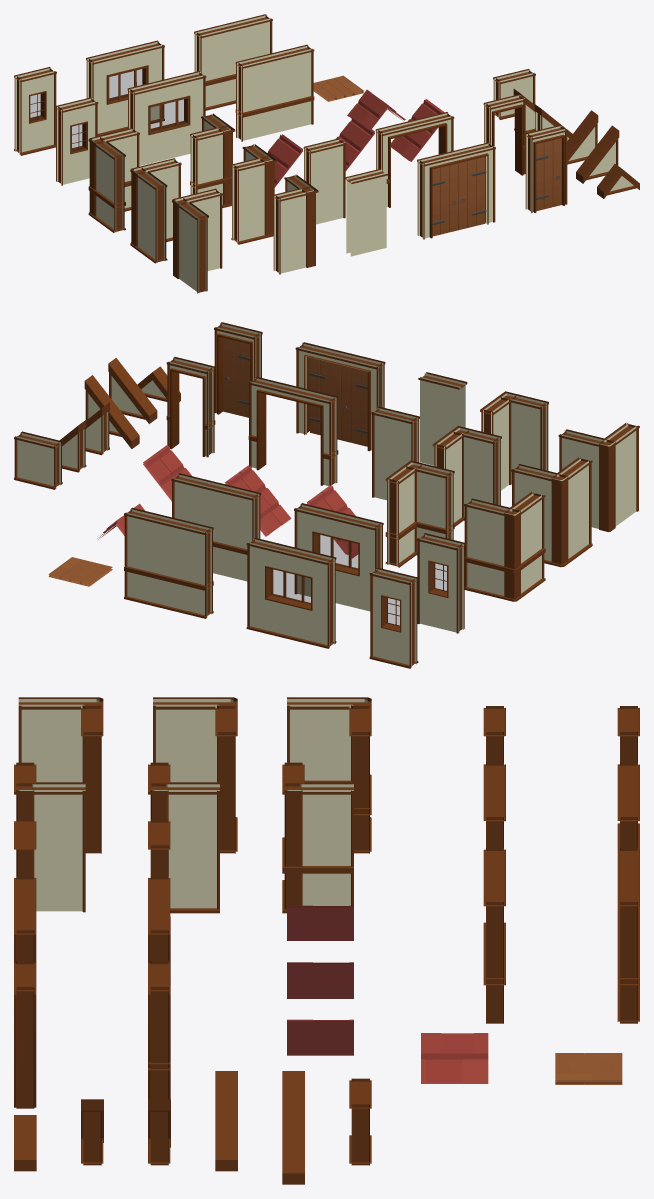
The model's file is FreeModularAssets.fbx.
The picture shows the model from 3 angles, top to bottom: view 1: azimuth 30°, elevation 25°; view 2: azimuth 150°, elevation 25°; view 3: azimuth 270°, elevation 25°; orthographic projection. The views are drawn at different scales.
Visible parts, largest first — view 1: FreeDoubleWallA, FreeLargeWindowA, FreeLargeWindowB, FreeDoubleWallB, FreeAntiCornerA, FreeAntiCornerC, FreeAntiCornerB, FreeCornerB, FreeCornerA, FreeWindowB, FreeWallA, FreeCornerC (+20 smaller); view 2: FreeDoubleWallB, FreeLargeWindowB, FreeAntiCornerC, FreeLargeWindowA, FreeDoubleWallA, FreeAntiCornerB, FreeCornerC, FreeAntiCornerA, FreeWindowB, FreeWindowA, FreeCornerB, FreeCornerA (+19 smaller); view 3: FreeCornerC, FreeCornerA, FreeAntiCornerC, FreeAntiCornerA, FreeAntiCornerB, FreeCornerB, FreeDoubleWallB, FreeDoubleWallA, TopConnectorRoof Free, DoorWayAFree, DoorWayBFree, FreeReveresedRoofBottom (+16 smaller).
Part boxes in pixels (box(x1,y1,x2,y2)): FreeDoubleWallA: box(235, 44, 314, 141); FreeLargeWindowA: box(127, 71, 206, 165); FreeLargeWindowB: box(86, 40, 164, 135); FreeDoubleWallB: box(194, 14, 272, 110); FreeAntiCornerA: box(172, 188, 223, 293); FreeAntiCornerC: box(88, 127, 139, 232); FreeAntiCornerB: box(130, 158, 181, 263); FreeCornerB: box(231, 144, 276, 244); FreeCornerA: box(273, 174, 318, 274); FreeWindowB: box(14, 67, 56, 155); FreeWallA: box(345, 168, 387, 256); FreeCornerC: box(190, 113, 235, 207); FreeDoubleWallB: box(124, 507, 213, 618); FreeLargeWindowB: box(246, 537, 336, 648); FreeAntiCornerC: box(464, 492, 545, 601); FreeLargeWindowA: box(294, 503, 383, 611); FreeDoubleWallA: box(171, 473, 260, 581); FreeAntiCornerB: box(511, 457, 592, 567); FreeCornerC: box(385, 460, 454, 567); FreeAntiCornerA: box(558, 423, 639, 531); FreeWindowB: box(369, 567, 418, 668); FreeWindowA: box(416, 533, 465, 633); FreeCornerB: box(432, 426, 501, 526); FreeCornerA: box(480, 391, 548, 490); FreeCornerC: box(282, 762, 353, 913); FreeCornerA: box(14, 762, 85, 912); FreeAntiCornerC: box(287, 697, 371, 853); FreeAntiCornerA: box(18, 697, 103, 853); FreeAntiCornerB: box(153, 697, 237, 853); FreeCornerB: box(148, 762, 219, 913); FreeDoubleWallB: box(617, 847, 639, 1023); FreeDoubleWallA: box(483, 847, 505, 1023); TopConnectorRoof Free: box(421, 1033, 488, 1083); DoorWayAFree: box(14, 961, 36, 1108); DoorWayBFree: box(148, 961, 170, 1099); FreeReveresedRoofBottom: box(282, 1071, 304, 1184).
Bounding box in the file's own units: 1241 × 223 × 933.
